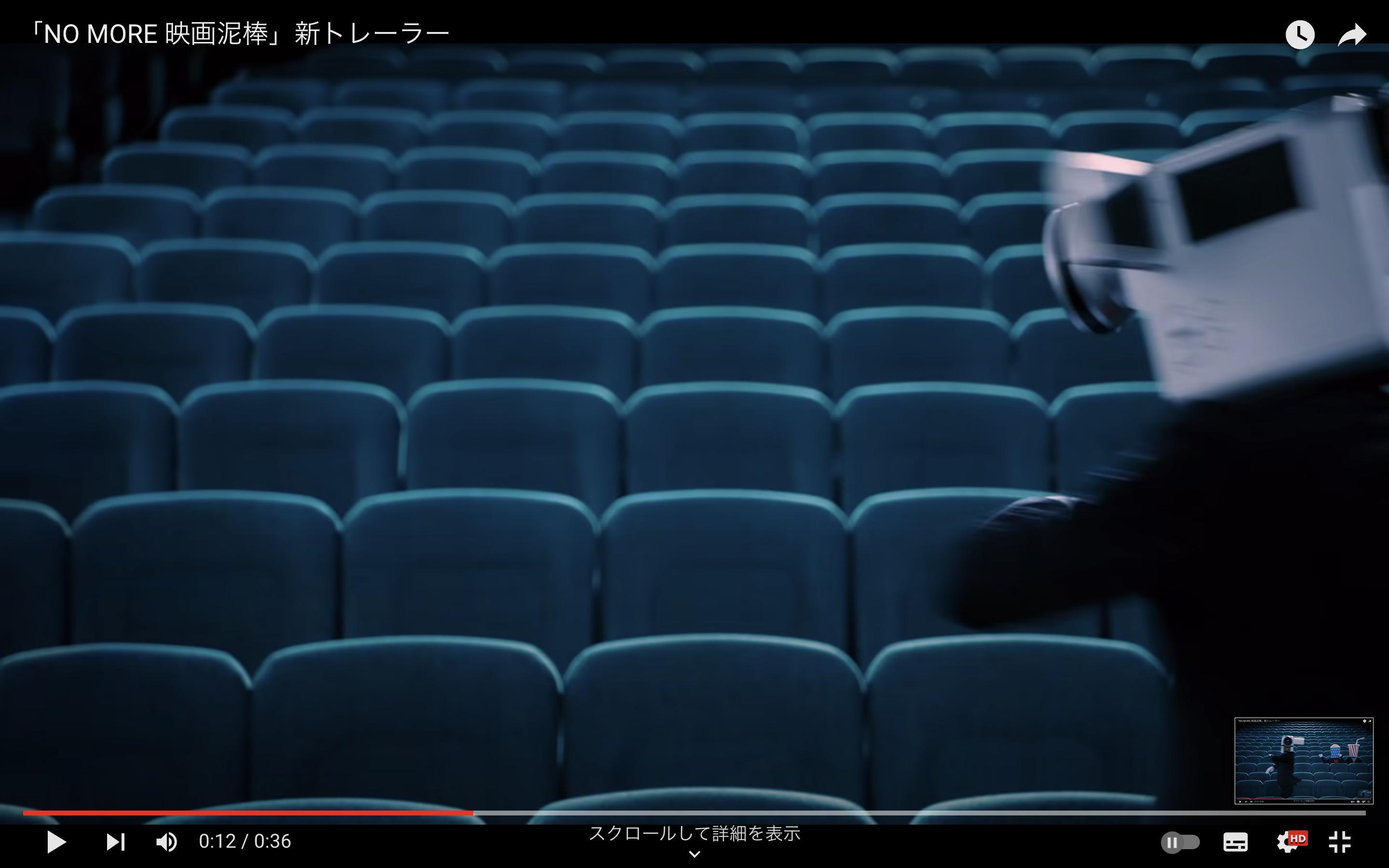no more kid: (1011, 76, 1389, 415)
